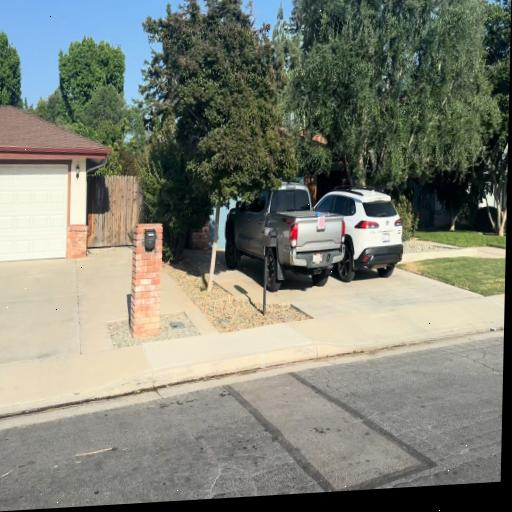bullseye: (318, 216, 325, 230)
